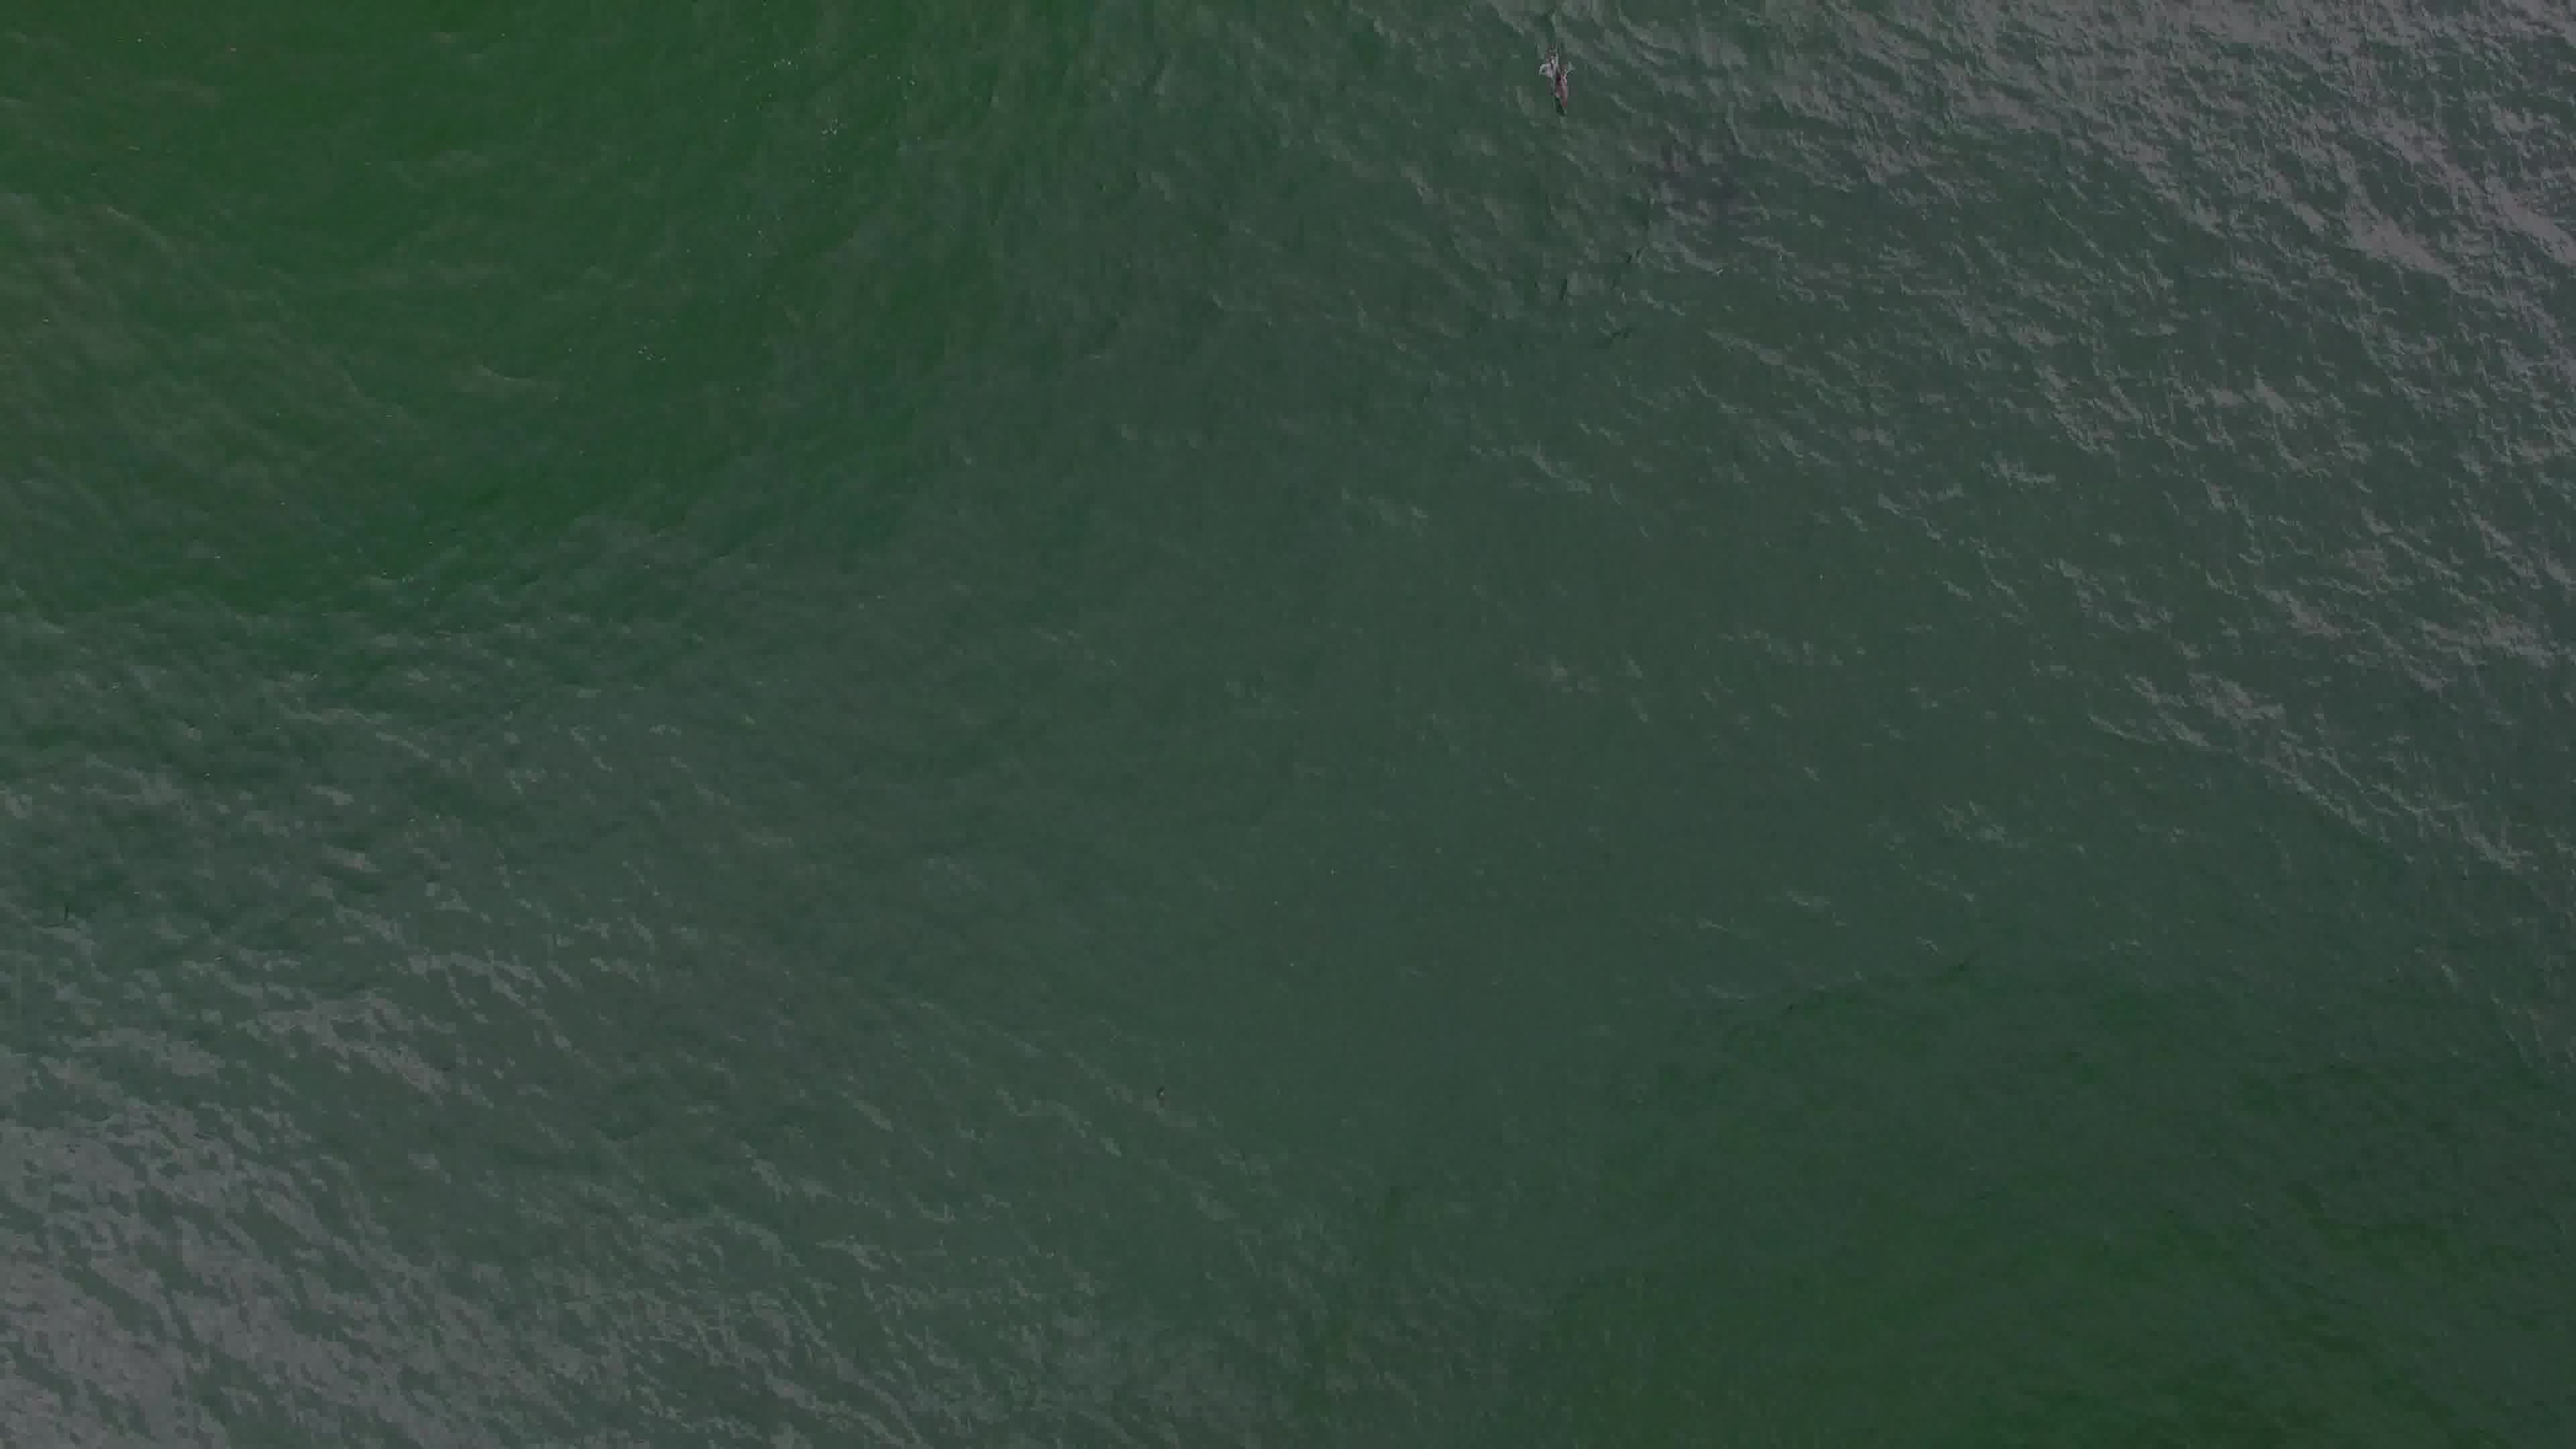dolphin: (1534, 30, 1591, 122)
